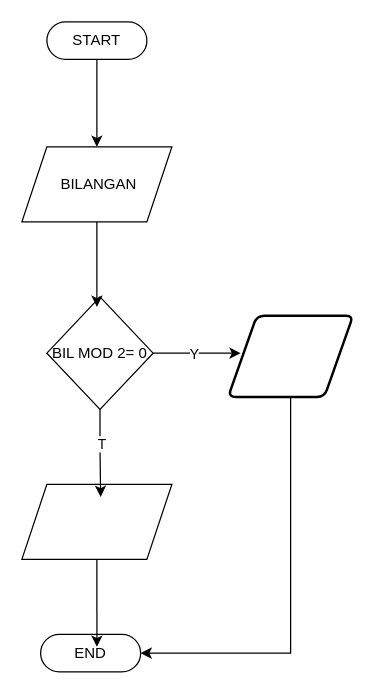
Some shapes in this 376 by 694 pixel diagram are drawn without their labels. Here are the shapes that lost their labels. From the top down, the centre of each, then its label:
At (290,356): "GENAP".
At (96,521): "GANJIL".
